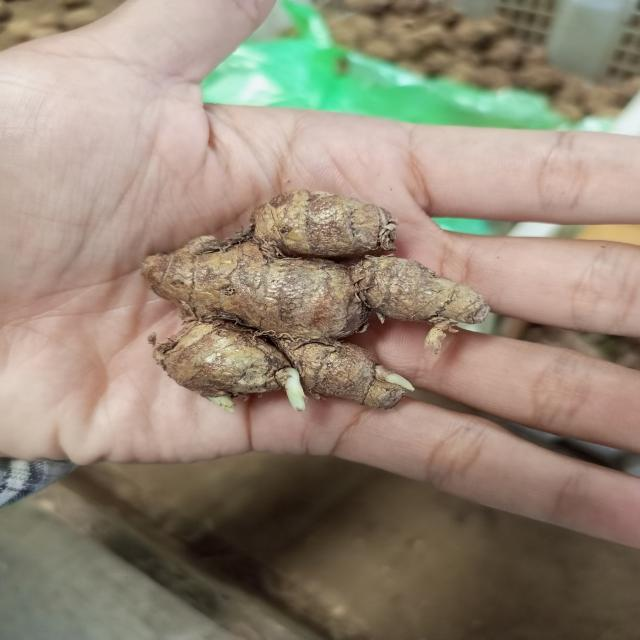ginger: (156, 195, 452, 398)
